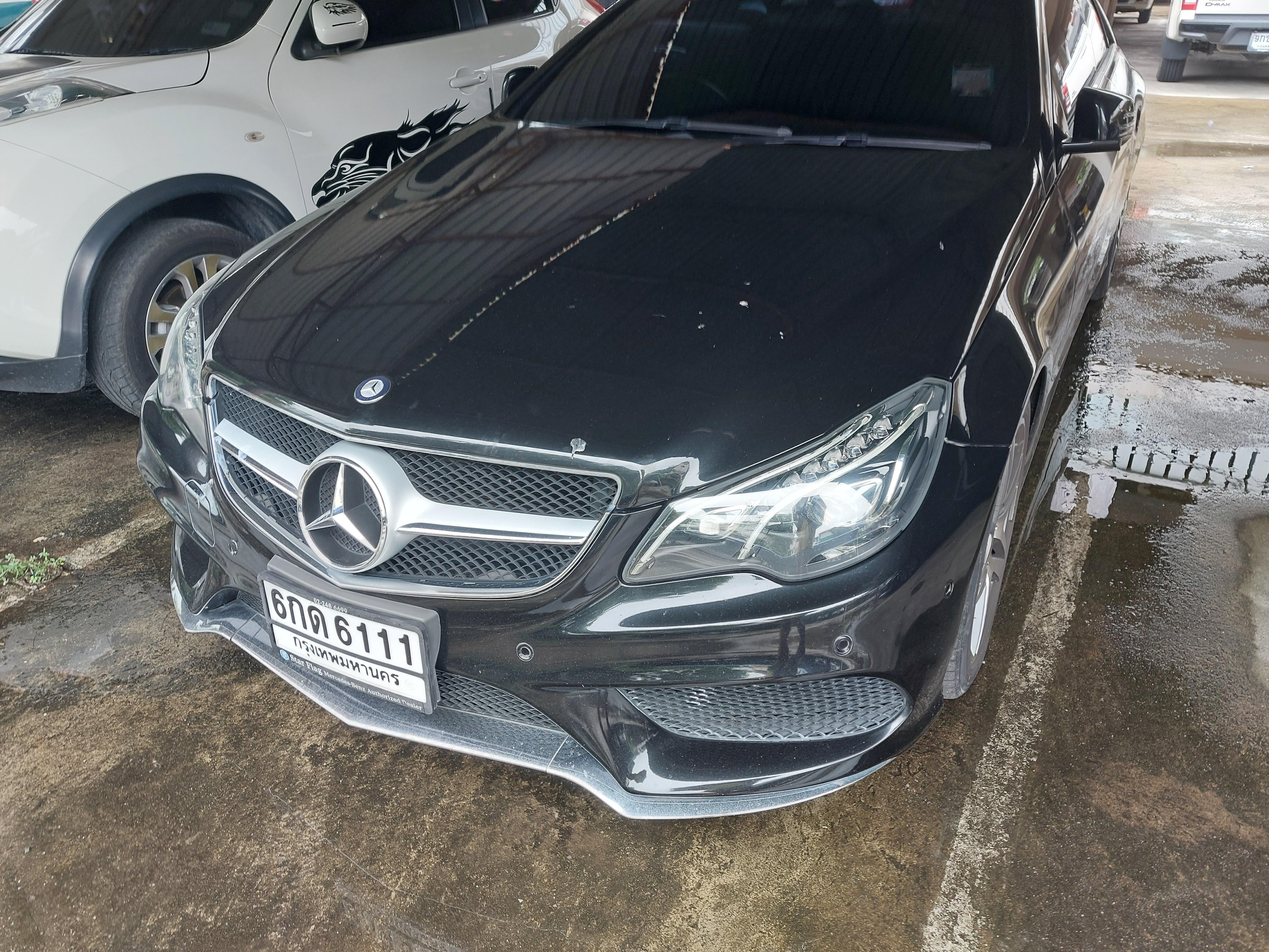license-plate: (256, 568, 439, 719)
